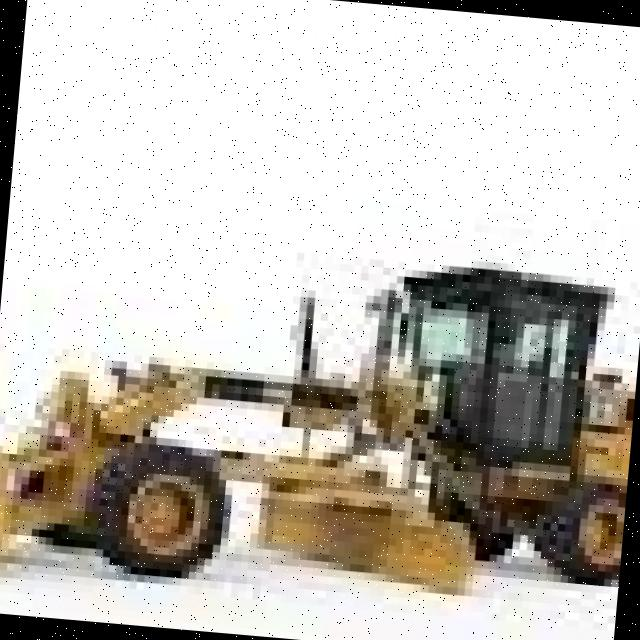Grader: (0, 147, 640, 594)
